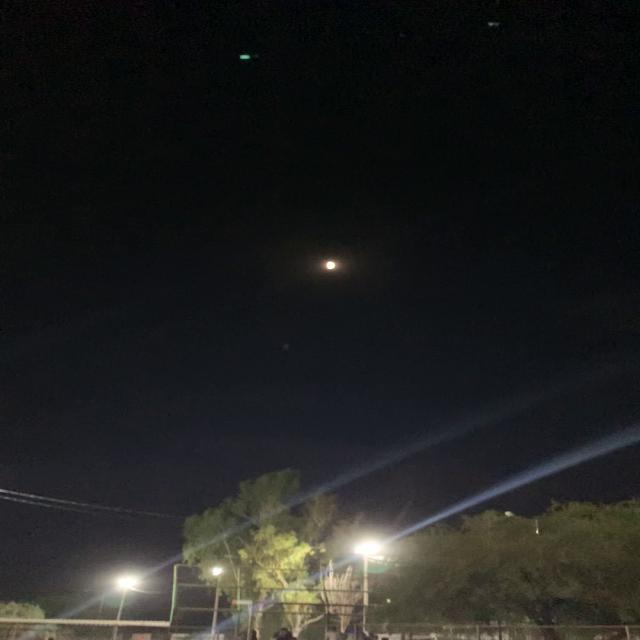moon: (319, 244, 356, 282)
